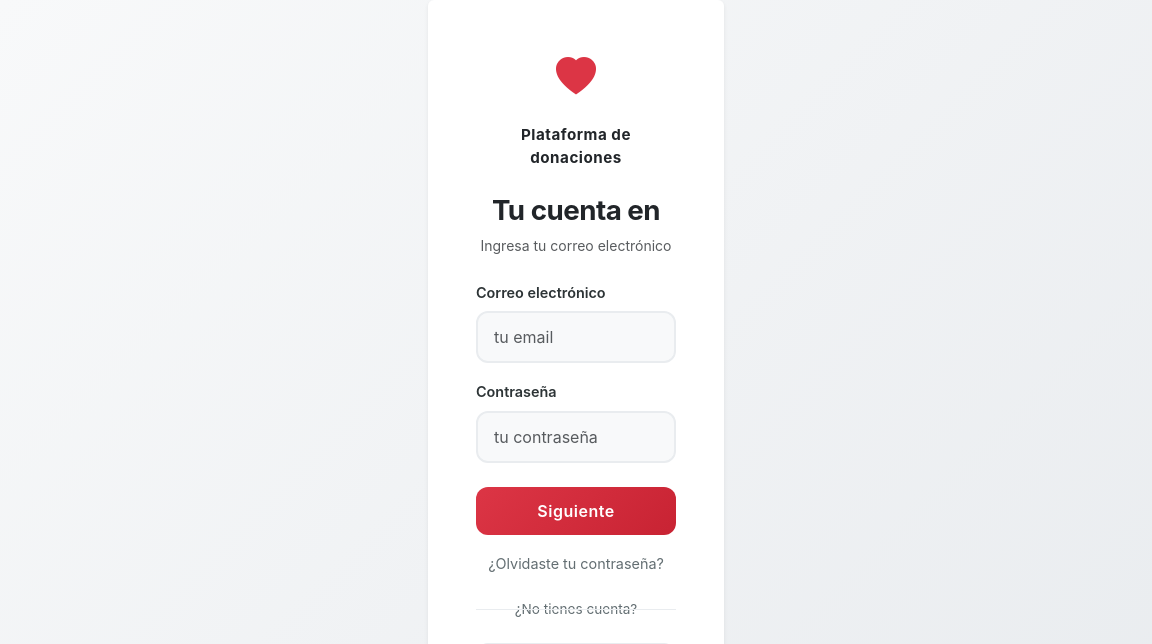
LoginPage › shows validation error for invalid email
The image size is (1152, 644).
Type "invalid-email" into the field labelled "Correo electrónico" at [576, 338], box [476,312,676,364]
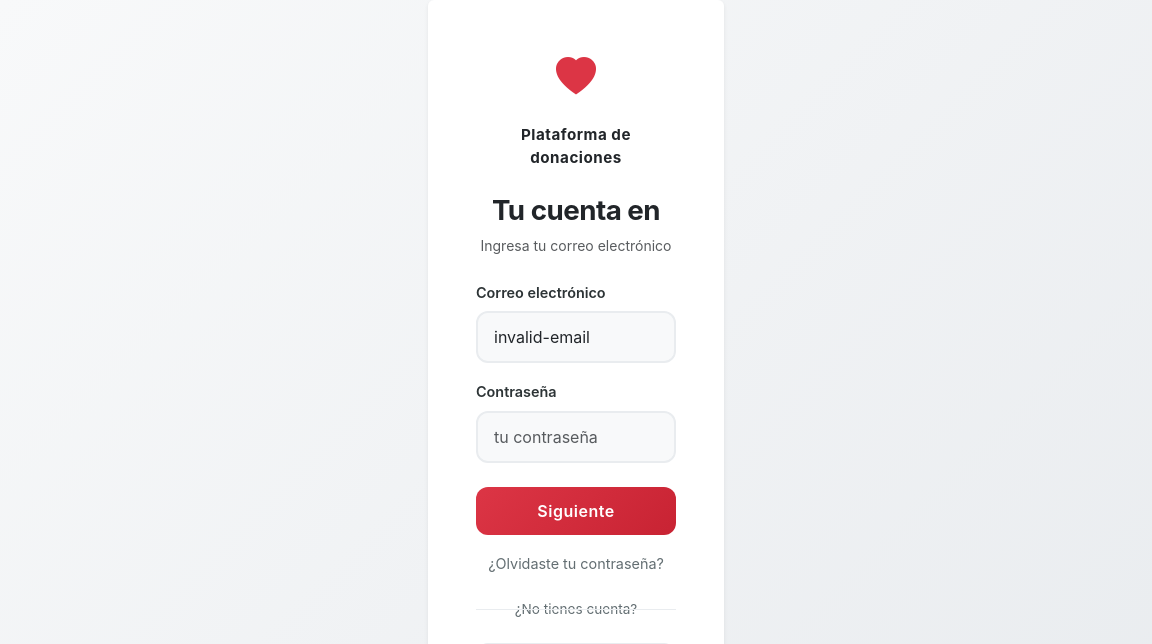
Leave the field labelled "Correo electrónico", box [476,312,676,364]
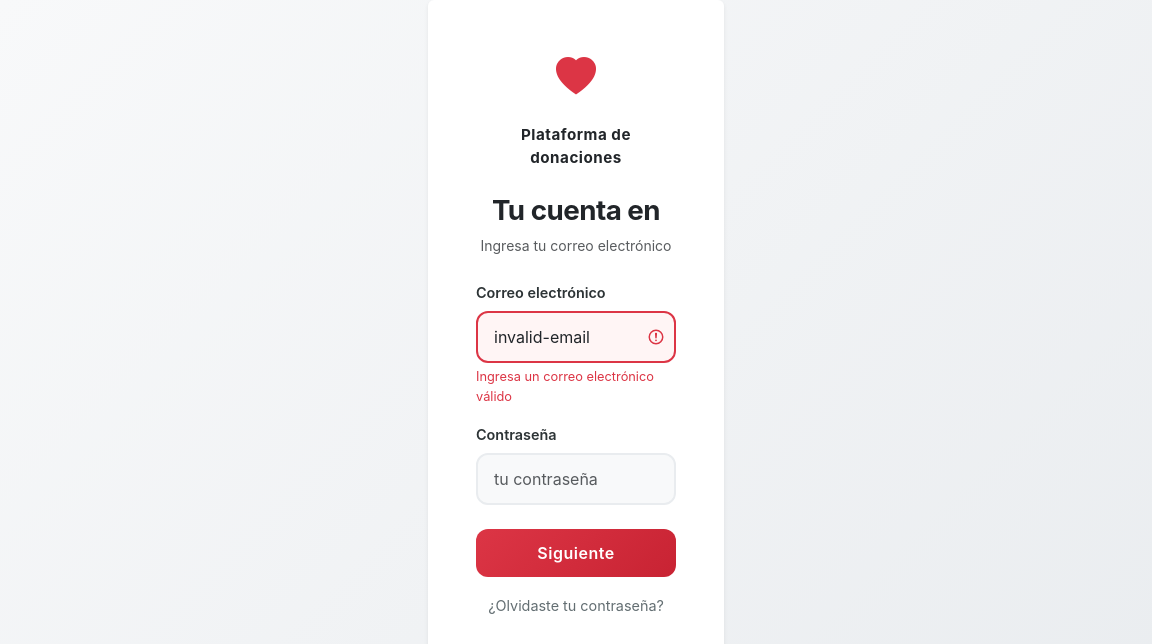
Expected: the text "Ingresa un correo electrónico válido" is shown, [476,368,676,406]
